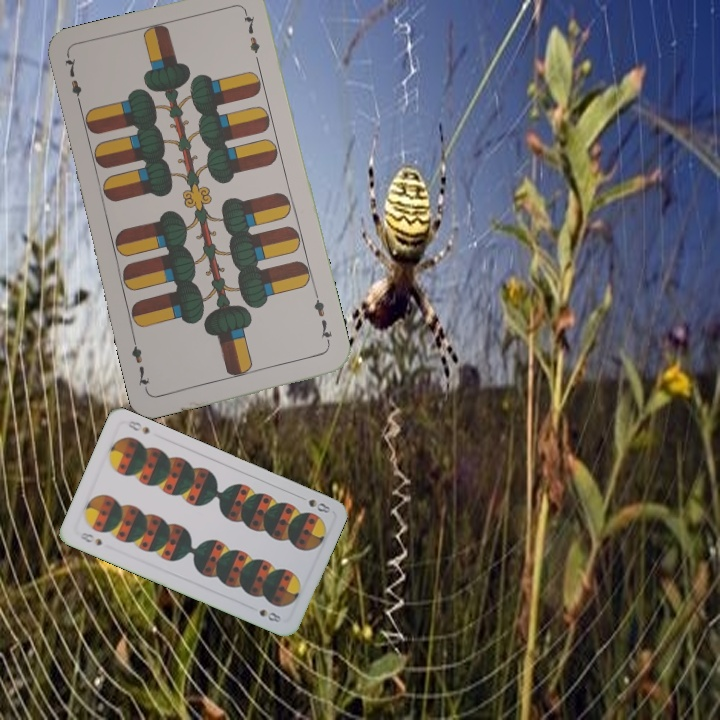E7: (309, 290, 335, 349), (60, 53, 85, 111)
S8: (294, 492, 333, 516), (76, 528, 105, 548)
